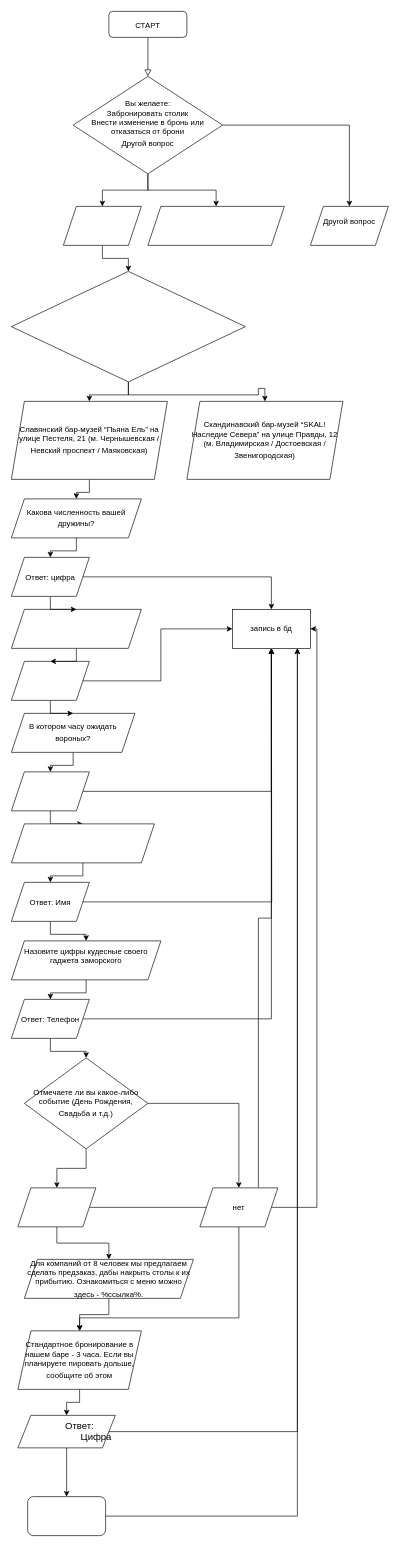
Some shapes in this 400 by 1547 pixel diagram are drawn without their labels. The centre of each missing label's shape, as x and y in pixels:
В какой день ваша дружина желает отобедать?: point (76, 628)
В какой из наших баров-музеев ваша дружина знатная путь держит?: point (128, 326)
Внести изменение в бронь или отказаться от брони: point (215, 225)
да: point (56, 1207)
Забронировать столик: point (102, 225)
На чье имя доброе оформить бронь?: point (82, 843)
Ответ: Время: point (50, 791)
Ответ: Дата: point (50, 680)
успех: point (66, 1516)
